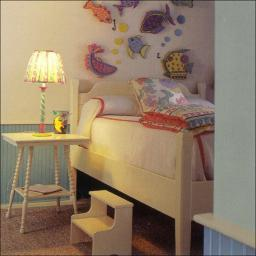Cama: (76, 79, 212, 206)
Escaleras: (69, 188, 133, 252)
